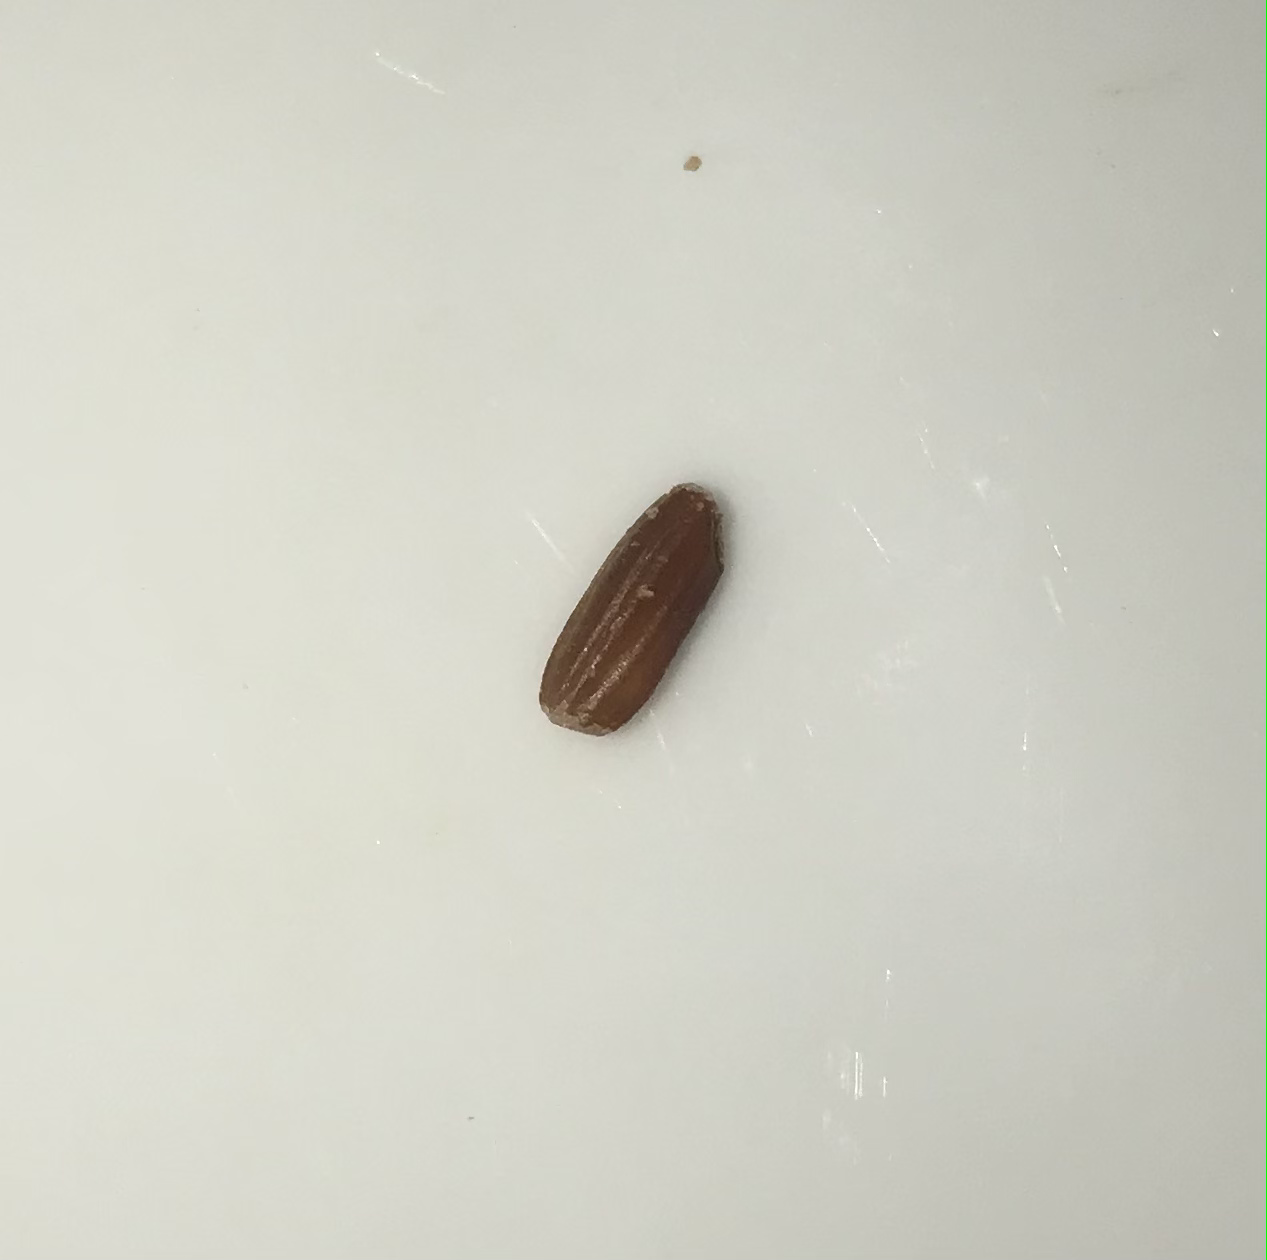Gao Lut Do: (523, 474, 739, 745)
